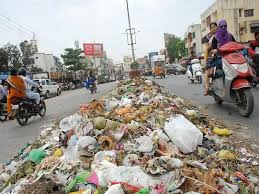garbage: (61, 115, 226, 194), (19, 146, 248, 194), (98, 92, 191, 194)
